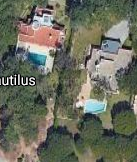pool: (28, 51, 46, 65), (84, 99, 103, 112)
